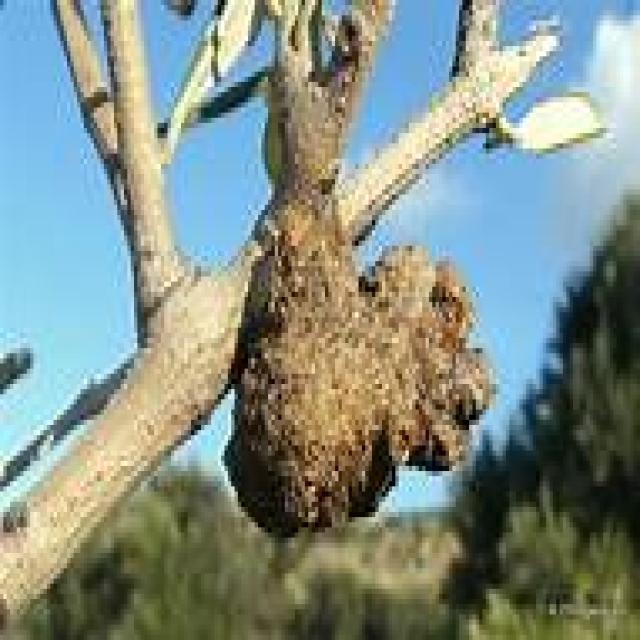Tuberculosis: (238, 174, 489, 532)
